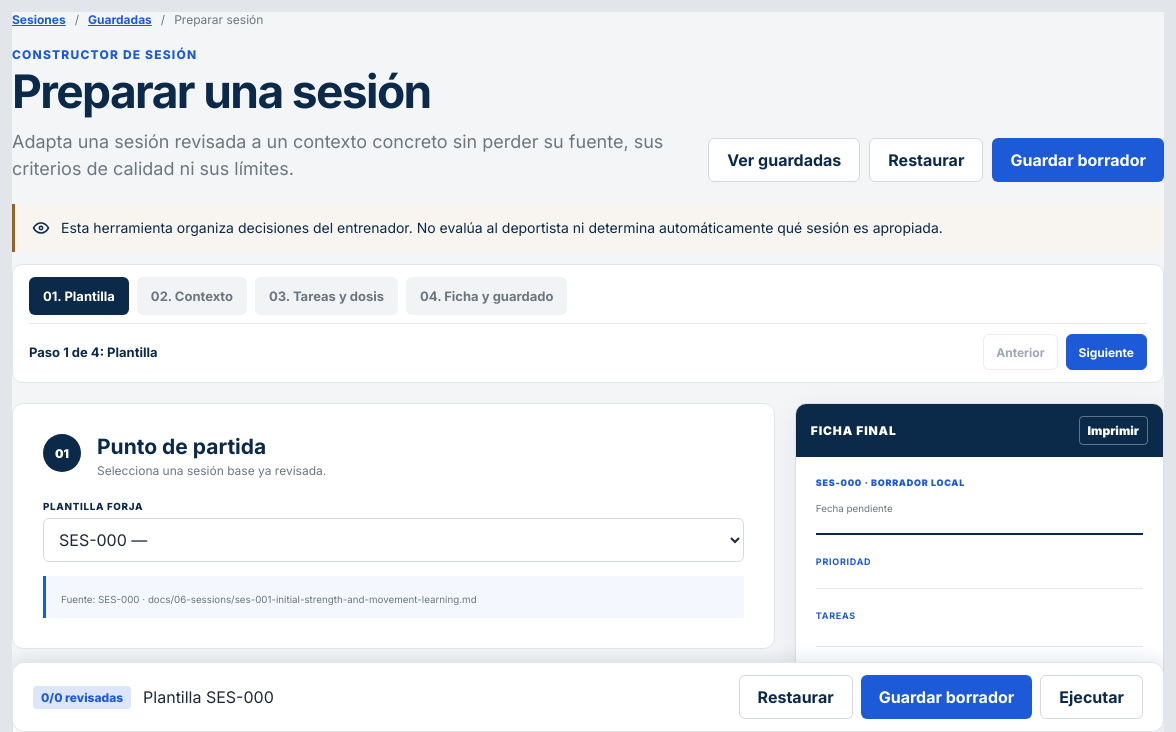
SessionBuilderPage (F1-10: Pasos claros y guardado visible) › permite navegar secuencialmente o directamente entre los pasos de preparación
Check: the text "Paso 1 de 4: Plantilla" is shown, box [29,344,158,360]
Check: the button with aria-label "Paso anterior" is disabled, box [983,334,1058,370]
Avanzar a paso 2
Click the button with aria-label "Siguiente paso" at (1106,352), box [1066,334,1147,370]
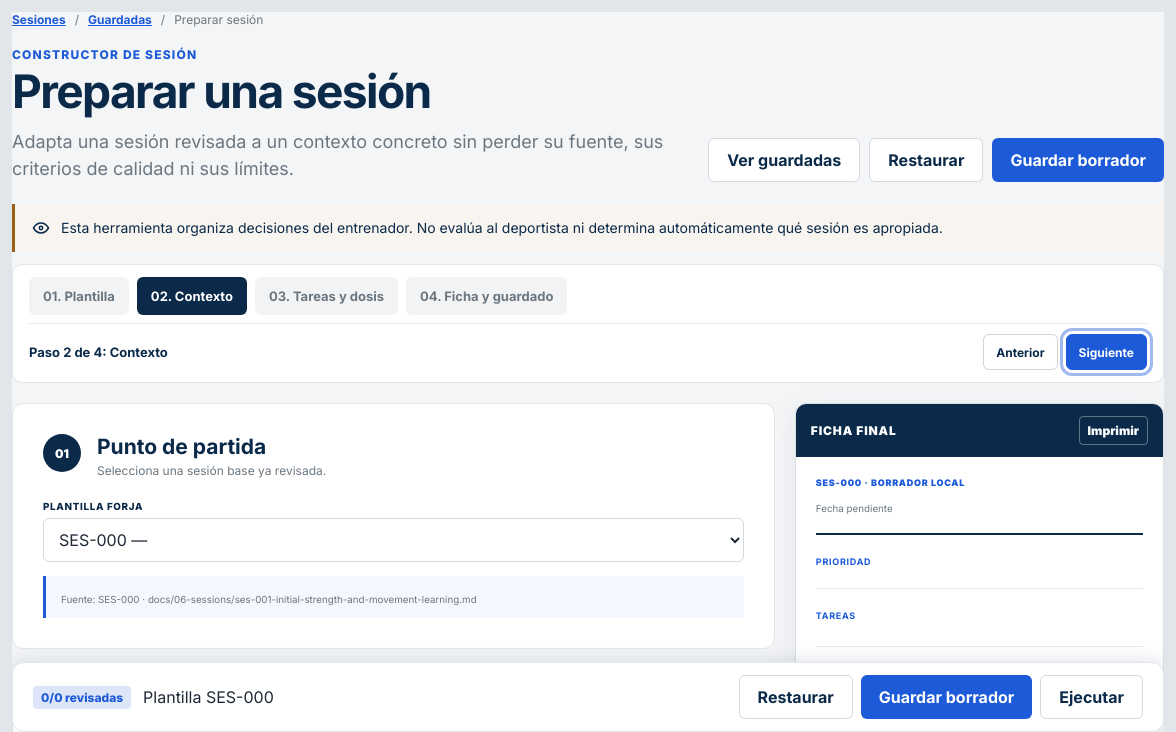
Check: the text "Paso 2 de 4: Contexto" is shown, box [29,344,168,360]
Check: the button with aria-label "Paso anterior" is enabled, box [983,334,1058,370]
Click the button "04. Ficha y guardado" at (487,296), box [406,277,567,315]
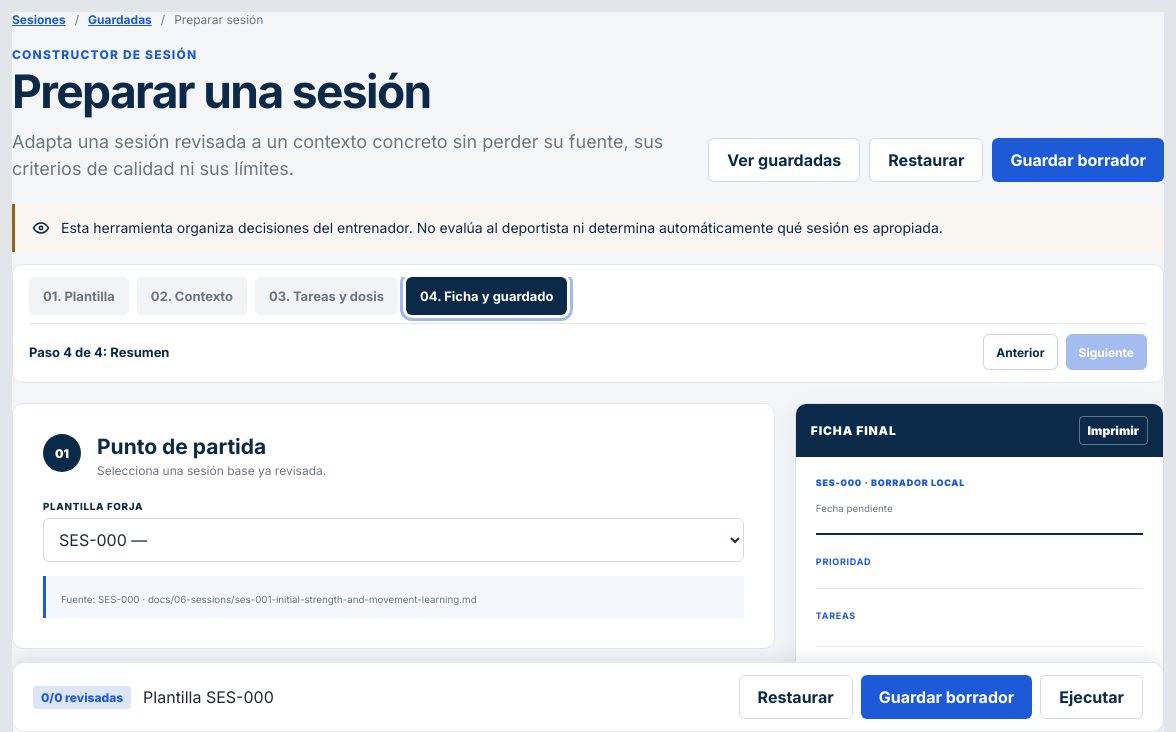
Check: the text "Paso 4 de 4: Resumen" is shown, box [29,344,170,360]
